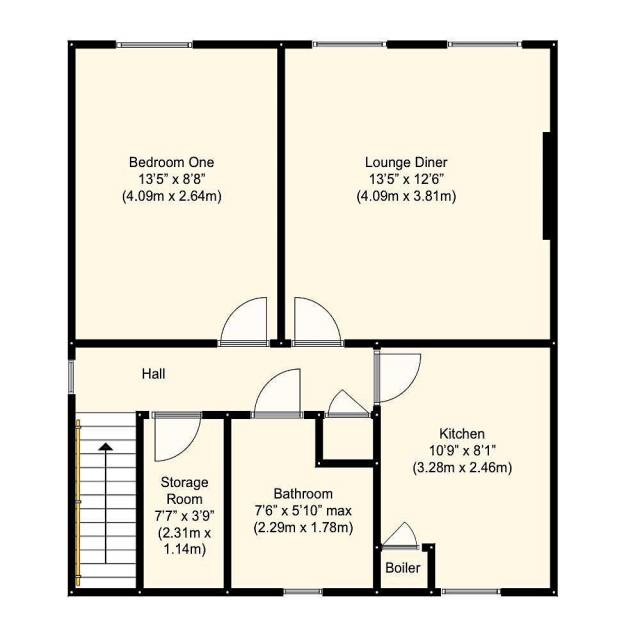DOOR: (215, 296, 271, 348), (290, 296, 346, 348), (372, 351, 423, 407), (250, 368, 305, 419)
ROOM: (276, 39, 559, 348), (67, 40, 286, 348), (372, 338, 559, 597)
WINDOW: (114, 39, 194, 49), (310, 40, 388, 48), (446, 40, 523, 48), (439, 587, 503, 596), (282, 588, 323, 595), (67, 358, 74, 396)
